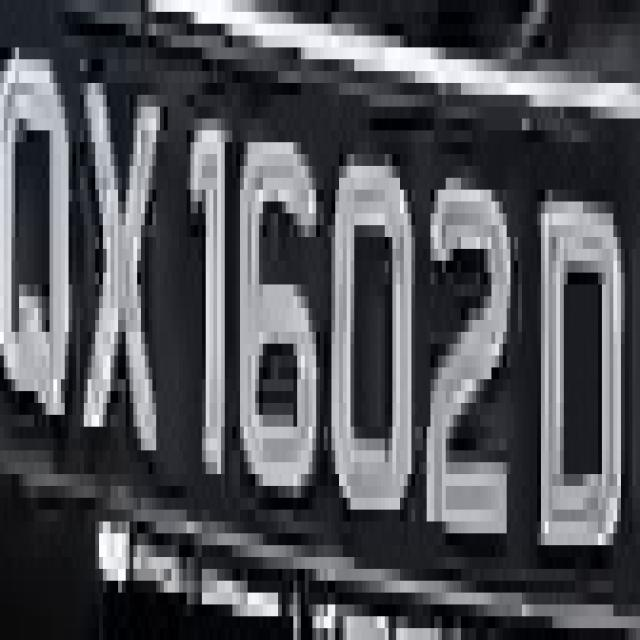0: (309, 83, 419, 557)
1: (190, 36, 232, 534)
2: (416, 154, 514, 581)
6: (248, 107, 328, 569)
D: (526, 166, 632, 604)
Q: (4, 48, 80, 462)
X: (68, 83, 168, 533)
